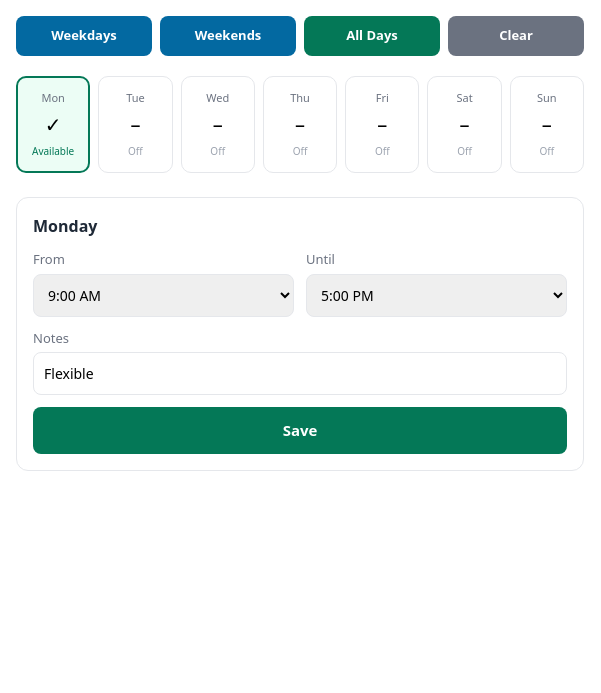
PlayerAvailability › toggles availability when day button is clicked
Expected: the text "Mon" is shown, [41, 90, 65, 104]
# Click Tuesday to toggle it on
Click the button "Tue – Off" at (135,124), box [98, 76, 173, 173]
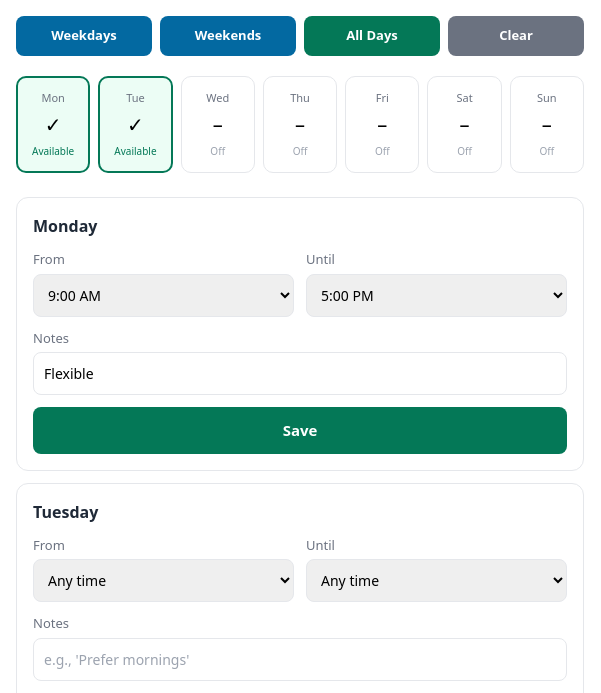
Now the button "Tue ✓ Available" is shown, box [98, 76, 173, 173]
